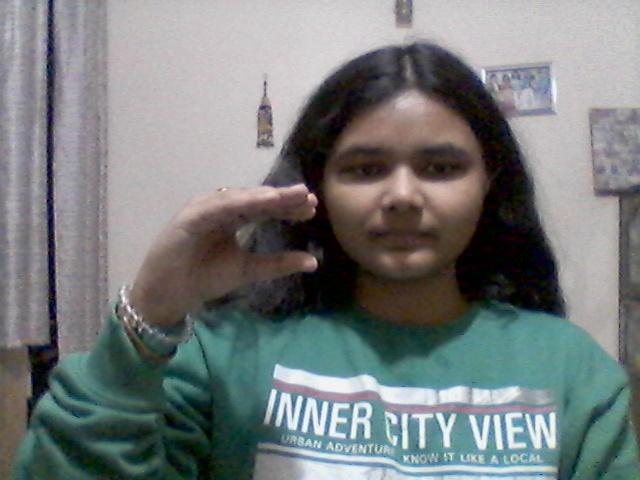no: (116, 174, 333, 335)
